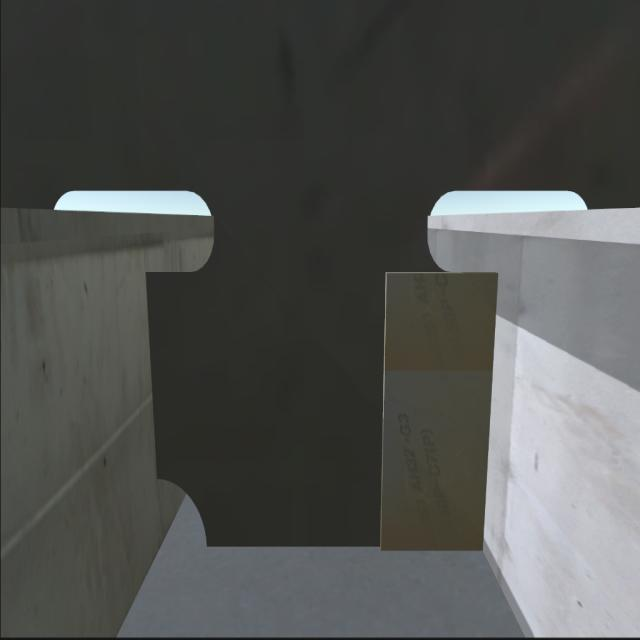fillet_hole: (156, 479, 207, 552)
fillet_yong_jeop_jang: (200, 538, 500, 556)
longi_yong_jeop_jang: (141, 265, 170, 481), (484, 262, 504, 563)
plate_CP01: (384, 269, 484, 553)
